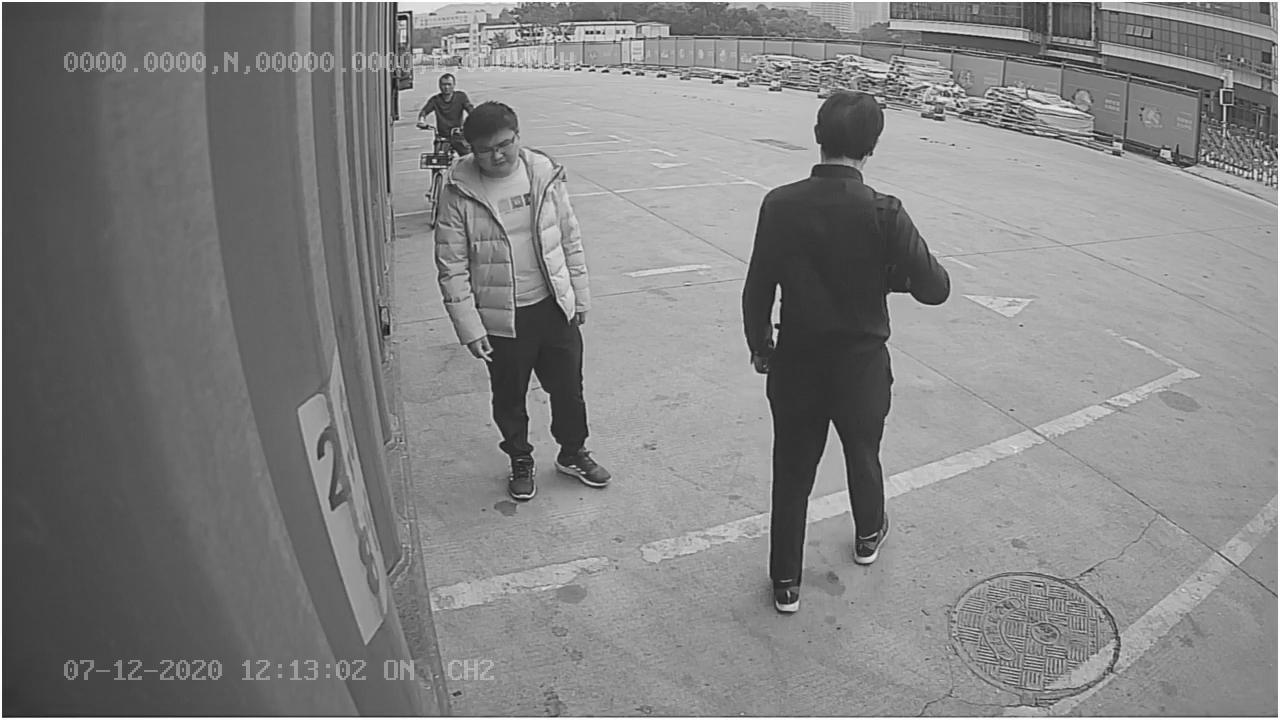person: (745, 84, 954, 611), (430, 92, 629, 512)
